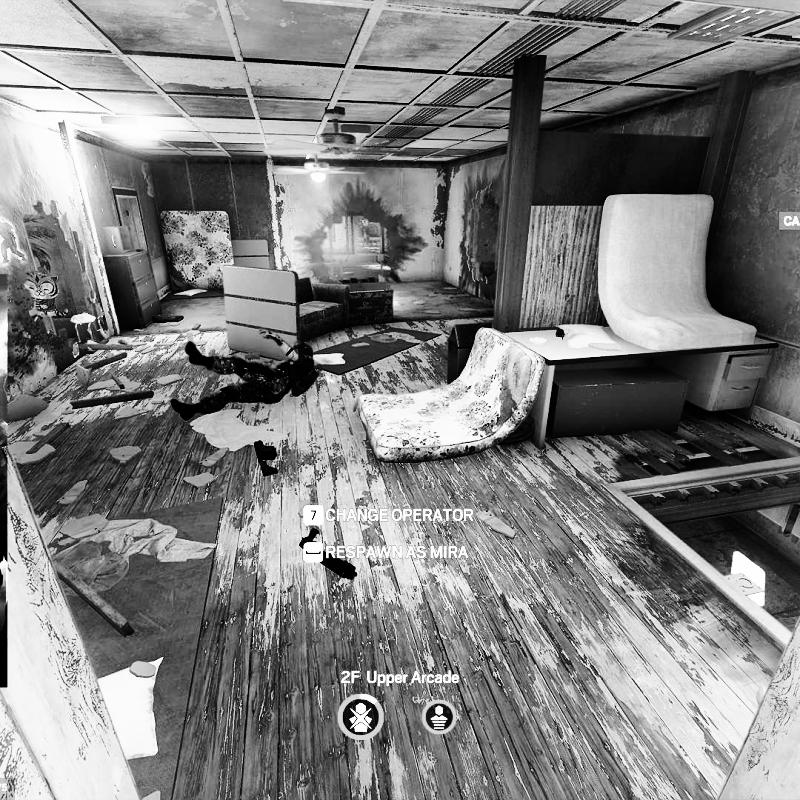Character: (170, 325, 319, 421)
Head: (294, 344, 313, 356)
